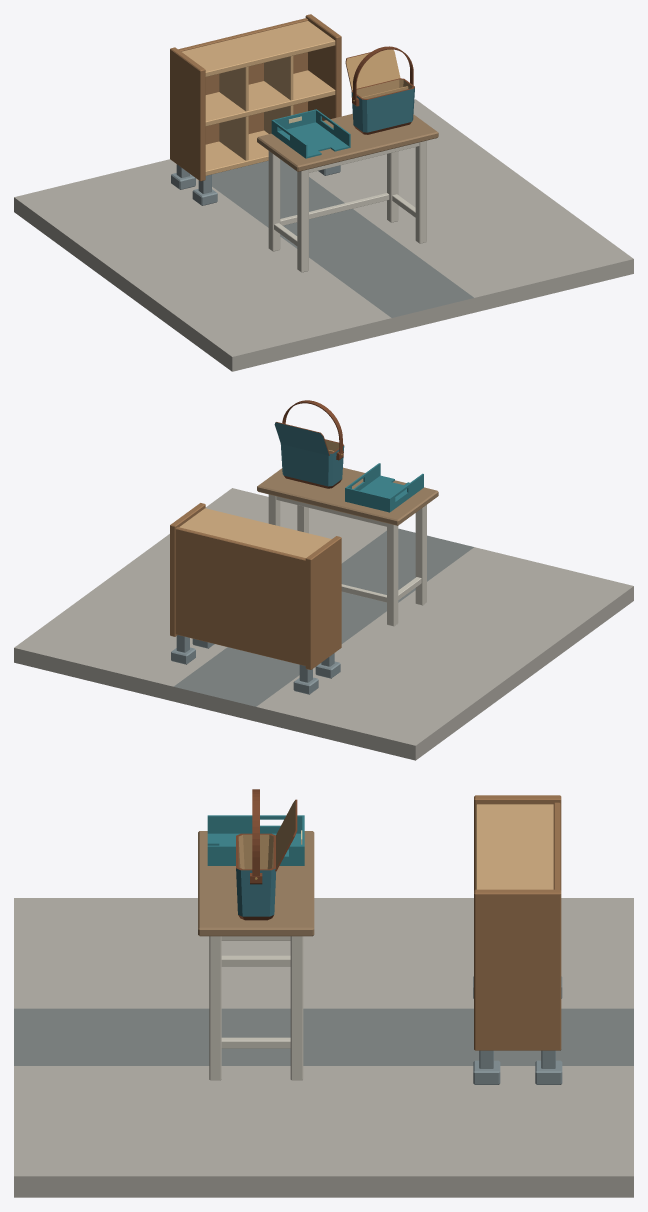
The picture shows the model from 3 angles, top to bottom: view 1: azimuth 30°, elevation 25°; view 2: azimuth 150°, elevation 25°; view 3: azimuth 270°, elevation 25°; orthographic projection. The views are drawn at different scales.
Visible parts, largest first — view 1: SCENE_ONLY__PostalSortingGround, cubbies__postal-sorting-cubbies-01, table__Complete work surface, satchel__Body_OpenThickShell, satchel__Flap_RaisedWideCover, tray__Notched_OpenFrontFloor, table__Worktable leg, table__Worktable leg.002, table__Worktable leg.001, table__Rear lower brace, table__Worktable leg.003; view 2: SCENE_ONLY__PostalSortingGround, cubbies__postal-sorting-cubbies-01, table__Complete work surface, satchel__Body_OpenThickShell, table__Worktable leg.001, table__Worktable leg, satchel__Flap_RaisedWideCover, tray__Notched_OpenFrontFloor, tray__Rear_LetterStop; view 3: SCENE_ONLY__PostalSortingGround, cubbies__postal-sorting-cubbies-01, table__Complete work surface, satchel__Body_OpenThickShell, table__Worktable leg.003, table__Worktable leg.002, tray__Left_ThroughGripSide, tray__Right_ThroughGripSide, table__Side lower stretcher, table__Side lower stretcher.001, satchel__Flap_RaisedWideCover, satchel__Strap_ContinuousSingleShoulder (+1 smaller).
Part boxes in pixels (x1,y1,x2,y2): SCENE_ONLY__PostalSortingGround: [14, 99, 633, 371]; cubbies__postal-sorting-cubbies-01: [170, 14, 341, 205]; table__Complete work surface: [257, 114, 438, 171]; satchel__Body_OpenThickShell: [351, 78, 414, 134]; satchel__Flap_RaisedWideCover: [345, 49, 400, 90]; tray__Notched_OpenFrontFloor: [271, 122, 350, 158]; table__Worktable leg: [297, 169, 308, 272]; table__Worktable leg.002: [415, 140, 426, 243]; table__Worktable leg.001: [268, 151, 280, 251]; table__Rear lower brace: [280, 193, 389, 225]; table__Worktable leg.003: [387, 151, 398, 222]; SCENE_ONLY__PostalSortingGround: [14, 488, 633, 760]; cubbies__postal-sorting-cubbies-01: [170, 503, 341, 694]; table__Complete work surface: [257, 467, 438, 525]; satchel__Body_OpenThickShell: [280, 439, 344, 488]; table__Worktable leg.001: [387, 523, 398, 626]; table__Worktable leg: [415, 505, 426, 605]; satchel__Flap_RaisedWideCover: [274, 422, 329, 455]; tray__Notched_OpenFrontFloor: [345, 475, 423, 512]; tray__Rear_LetterStop: [346, 488, 388, 510]; SCENE_ONLY__PostalSortingGround: [14, 898, 633, 1197]; cubbies__postal-sorting-cubbies-01: [473, 795, 562, 1084]; table__Complete work surface: [198, 831, 314, 936]; satchel__Body_OpenThickShell: [236, 833, 276, 920]; table__Worktable leg.003: [290, 936, 303, 1080]; table__Worktable leg.002: [209, 936, 221, 1080]; tray__Left_ThroughGripSide: [207, 815, 304, 833]; tray__Right_ThroughGripSide: [207, 845, 304, 863]; table__Side lower stretcher: [221, 955, 290, 966]; table__Side lower stretcher.001: [221, 1037, 290, 1048]; satchel__Flap_RaisedWideCover: [275, 799, 297, 871]; satchel__Strap_ContinuousSingleShoulder: [252, 789, 259, 875].
Size of the model in its own units: 3.4 by 1.65 by 3.2.
